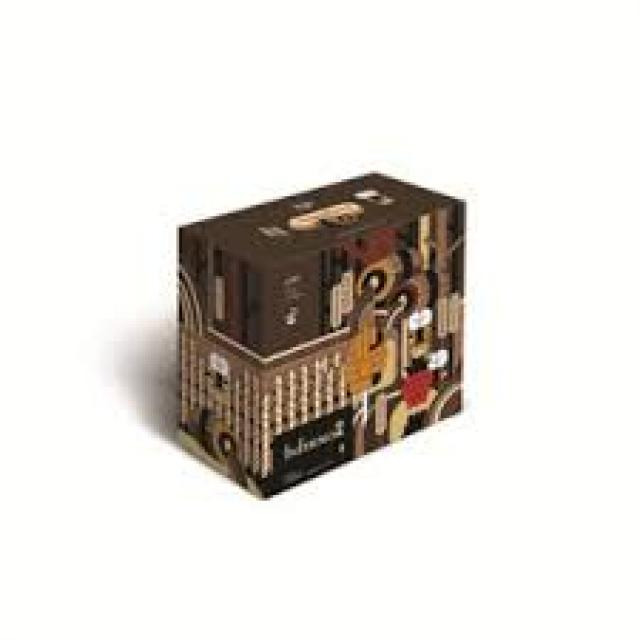Coffee: (174, 174, 469, 501)
